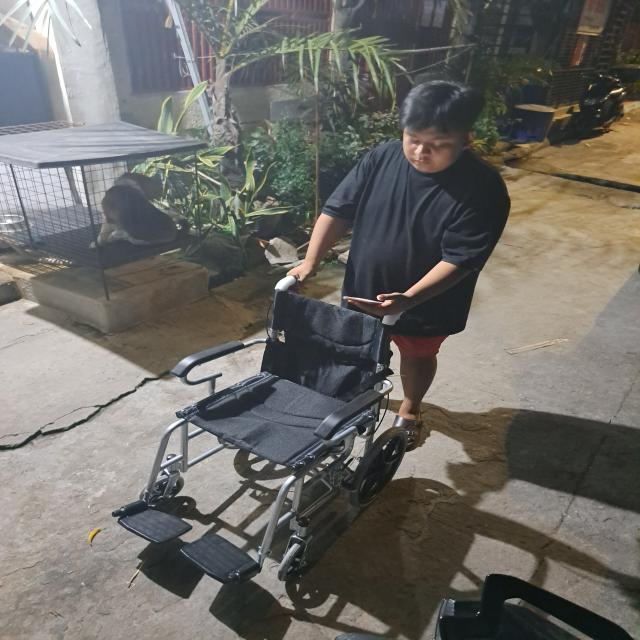wheelchairs: (133, 266, 418, 600)
